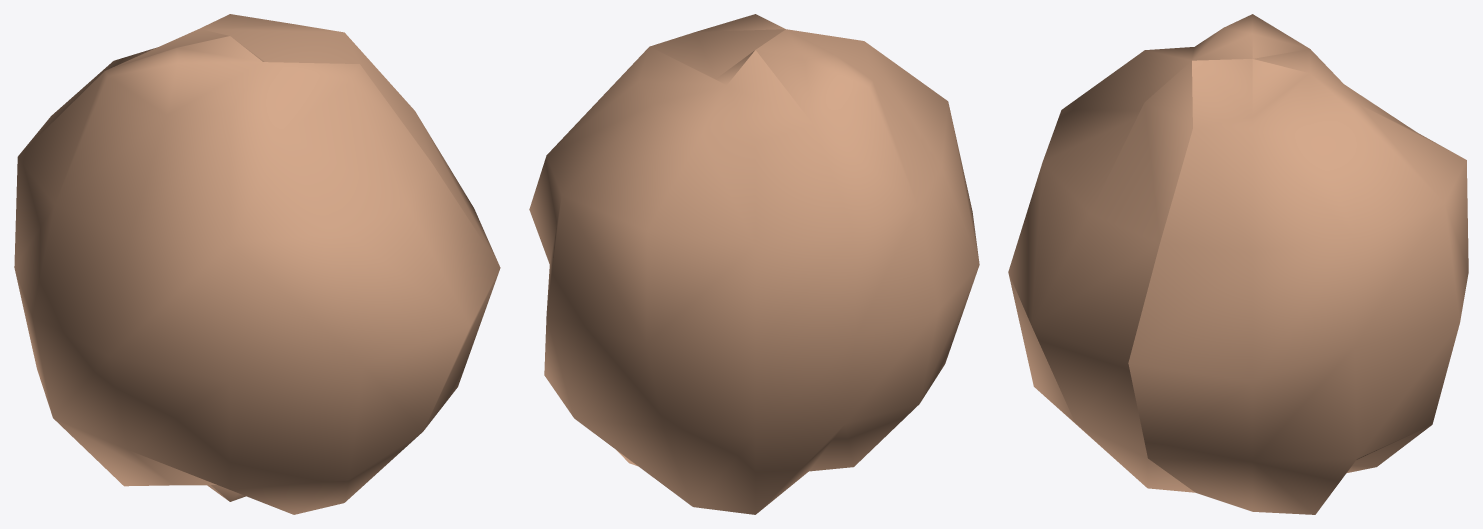
File: rock_003.fbx
3 views of the same model, side by side, from view 1: azimuth 30°, elevation 25°; view 2: azimuth 150°, elevation 25°; view 3: azimuth 270°, elevation 25° (orthographic). The views are drawn at different scales.
Visible parts, largest first — view 1: Rock; view 2: Rock; view 3: Rock.
Boxes of the visible parts, x1,y1,x2,y2 form: Rock: [14, 14, 500, 514]; Rock: [529, 14, 979, 514]; Rock: [1008, 14, 1468, 514].
Bounding box in the file's own units: 3.04 × 3.07 × 2.98.
